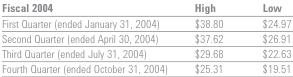table: (0, 1, 290, 74)
table column: (0, 1, 180, 74), (180, 1, 242, 74), (242, 1, 290, 74)
table column header: (0, 1, 290, 15)
table row: (0, 15, 290, 30), (0, 30, 290, 45), (0, 45, 290, 60), (0, 1, 290, 15), (0, 60, 290, 74)
